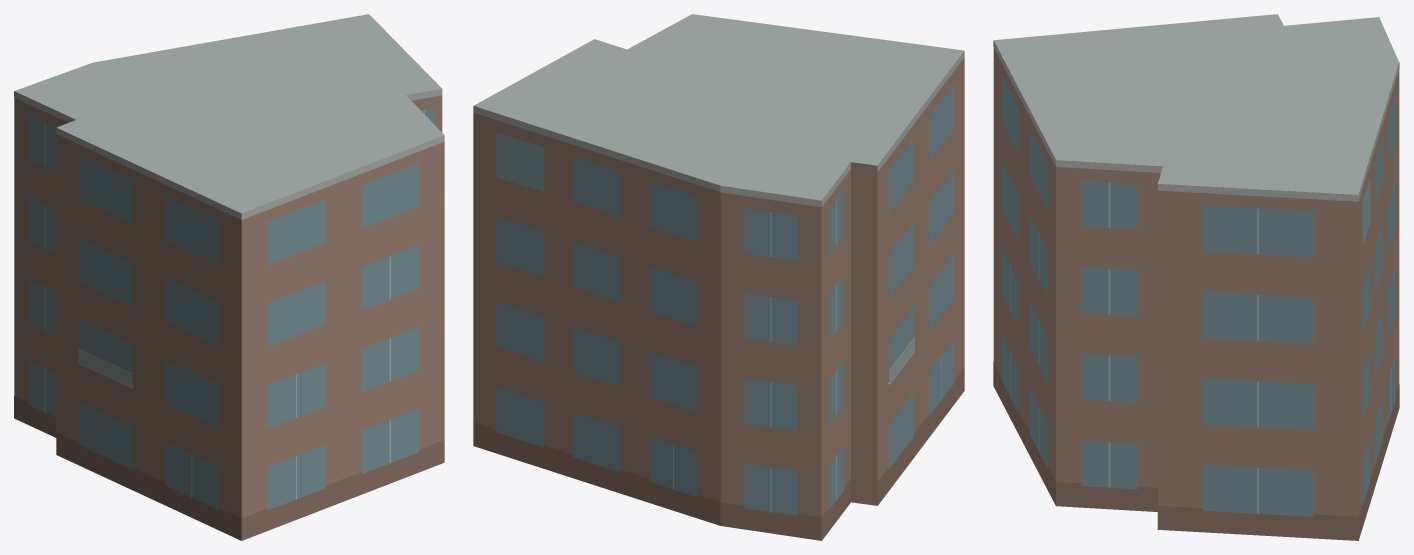
Rendered from survey-upis-32520523.glb.
3 renders of one model, left to right at view 1: azimuth 30°, elevation 25°; view 2: azimuth 150°, elevation 25°; view 3: azimuth 270°, elevation 25°, orthographic. The views are drawn at different scales.
Parts seen in each view (by area): view 1: survey-upis-32520523.tmp; view 2: survey-upis-32520523.tmp; view 3: survey-upis-32520523.tmp.
Boxes of the visible parts, bbox=[...] form: survey-upis-32520523.tmp: bbox=[14, 14, 444, 540]; survey-upis-32520523.tmp: bbox=[473, 14, 964, 540]; survey-upis-32520523.tmp: bbox=[993, 14, 1399, 540].
Size of the model in its own units: 13.92 by 12.4 by 13.19.
